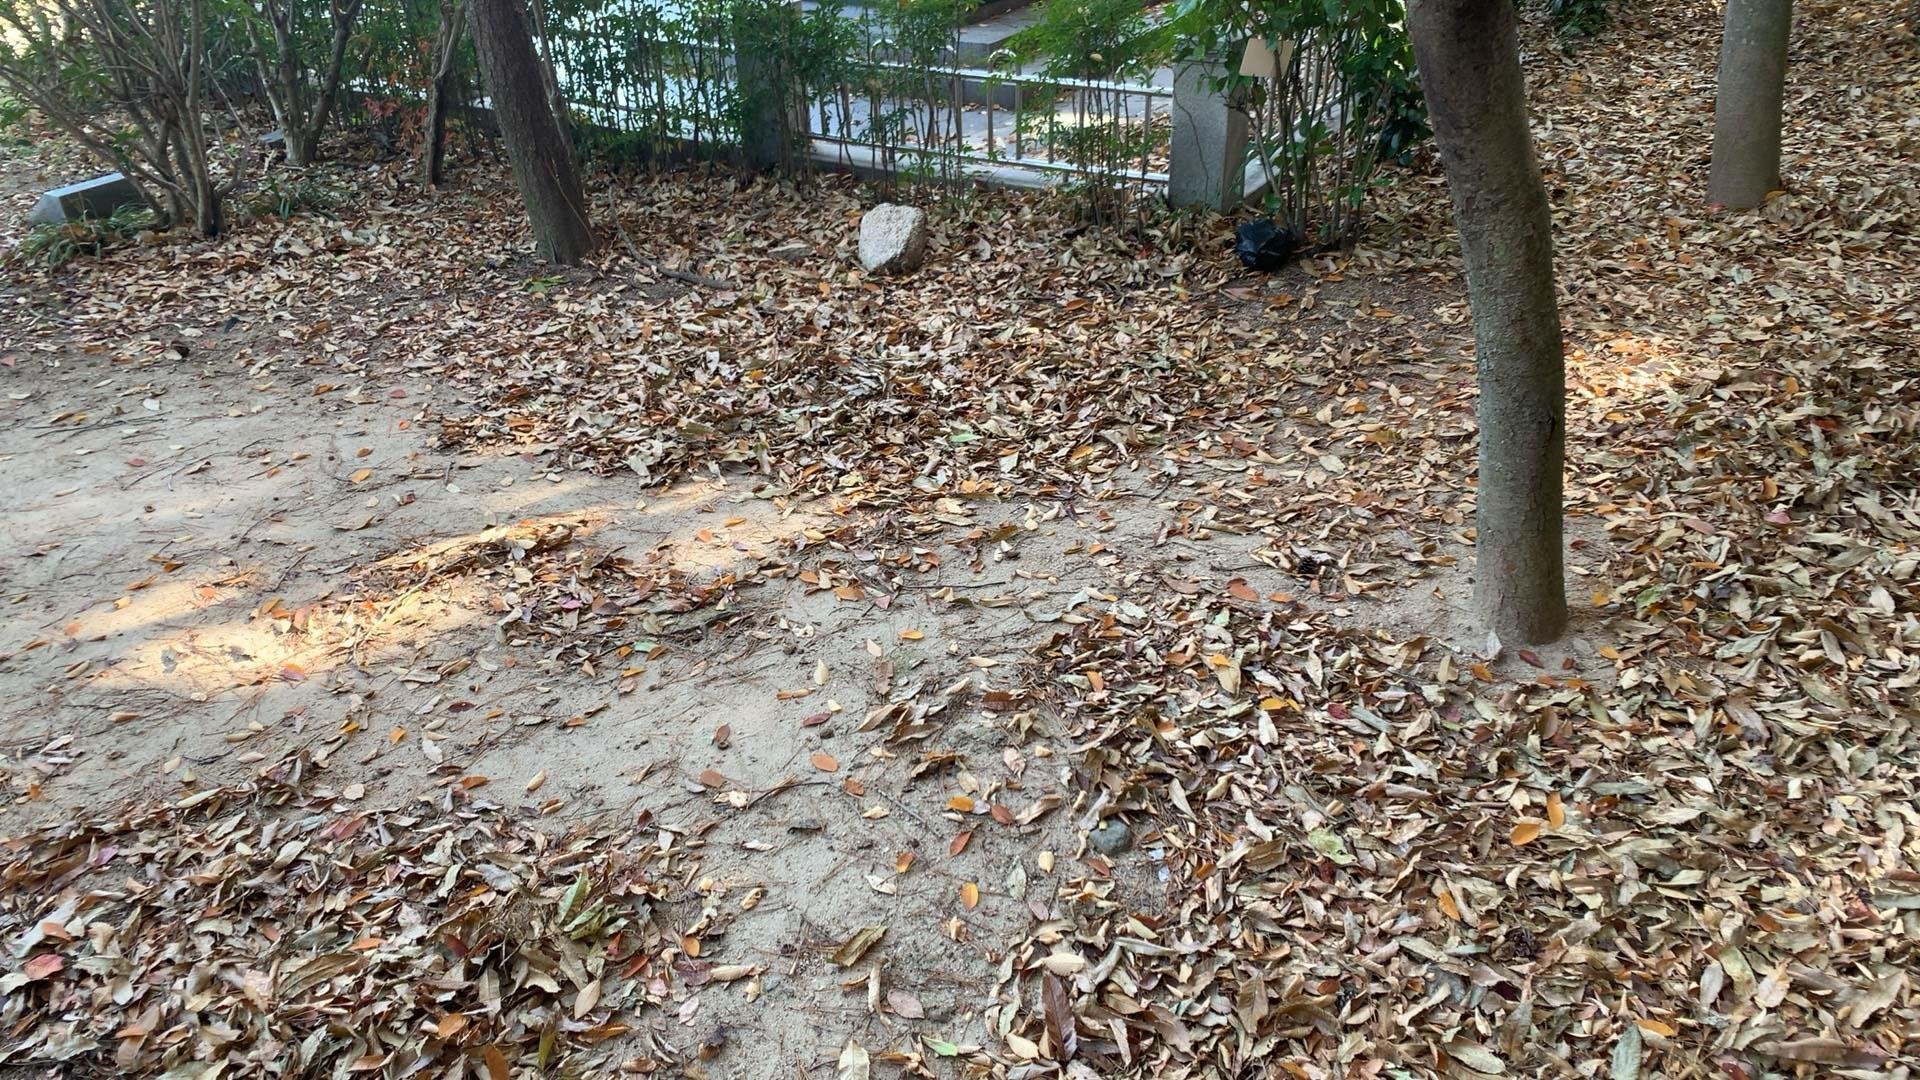black_bag: (1232, 215, 1298, 274)
